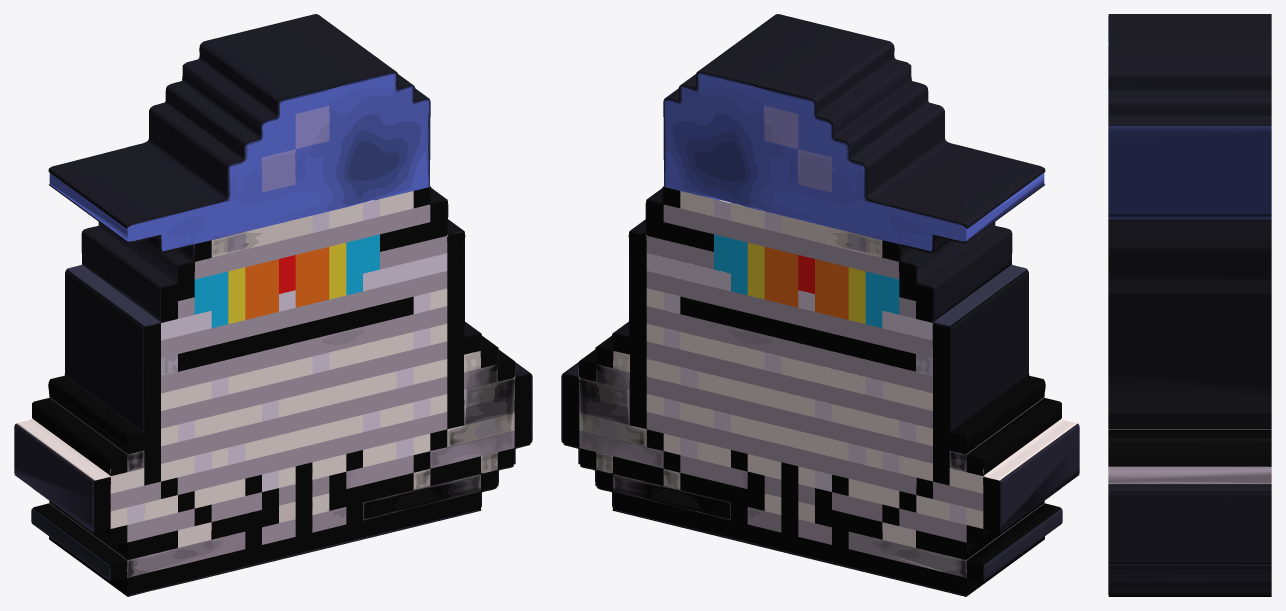
Rendered from Toadz_4243.glb.
The picture shows the model from 3 angles, left to right: view 1: azimuth 30°, elevation 25°; view 2: azimuth 150°, elevation 25°; view 3: azimuth 270°, elevation 25°; orthographic projection. The views are drawn at different scales.
Visible parts, largest first — view 1: Curve; view 2: Curve; view 3: Curve.
Boxes of the visible parts, left/top/right/bottom form: Curve: left=14, top=14, right=532, bottom=596; Curve: left=561, top=14, right=1079, bottom=596; Curve: left=1108, top=14, right=1271, bottom=596.
Bounding box in the file's own units: 3.25 × 3.26 × 1.
